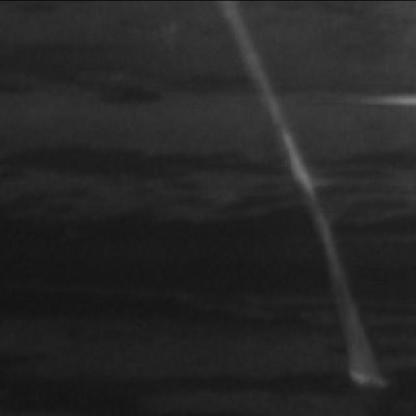scratches: (218, 6, 389, 385)
